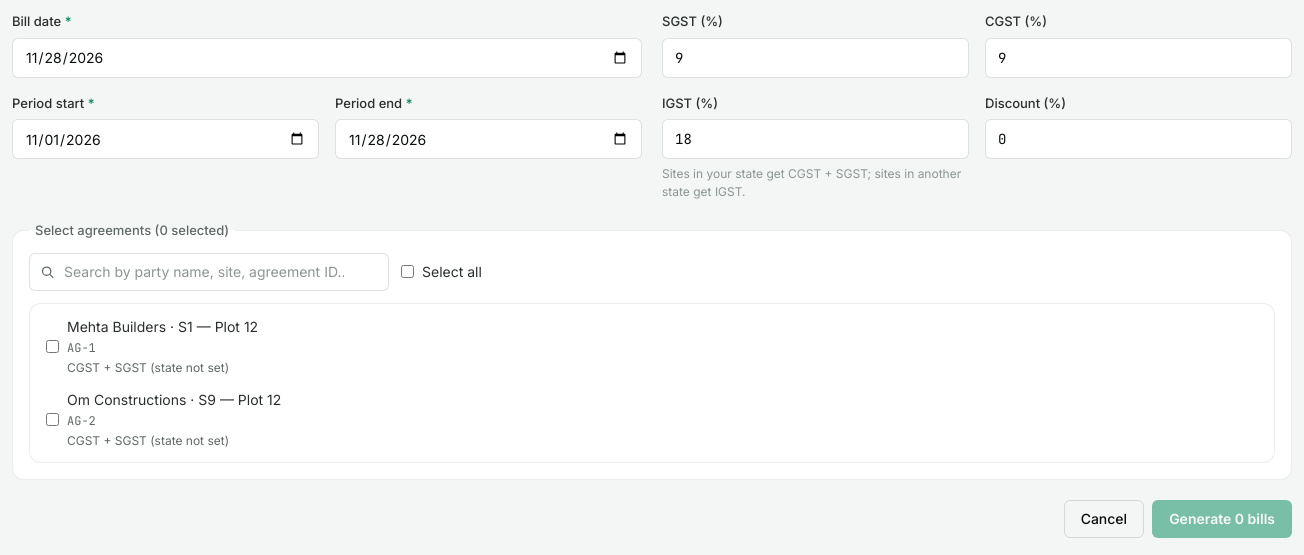
Test: BulkBillForm › refuses an end date before the start
The image size is (1304, 555).
Type "2026-06-10" into the date field labelled "Period start *" at (166, 139), box [12, 119, 319, 159]
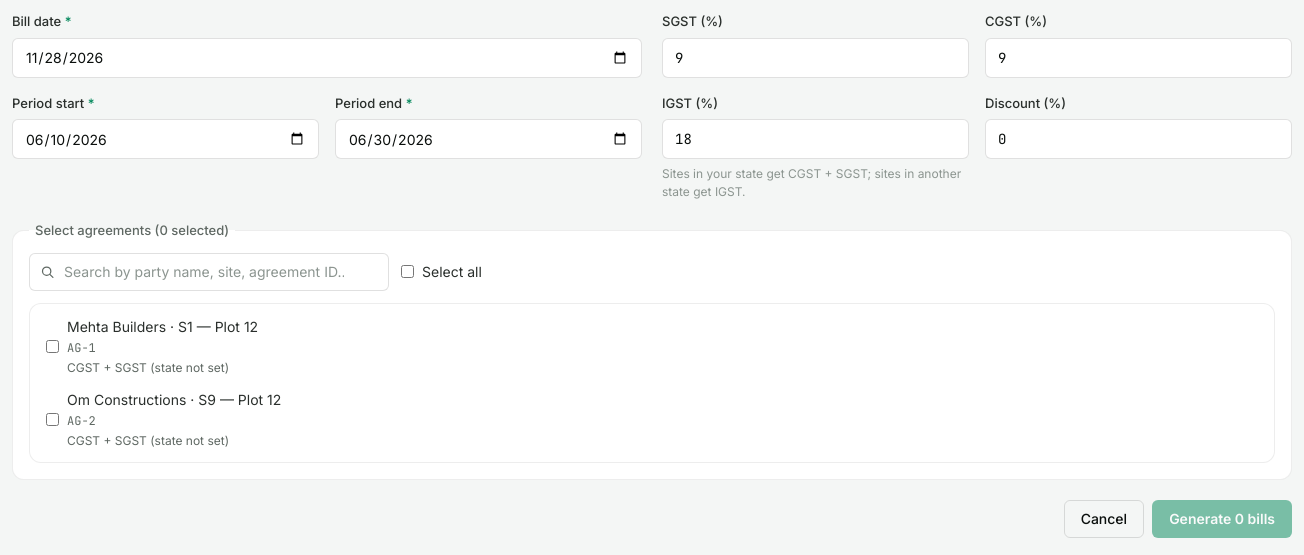
Type "2026-06-01" into the date field labelled "Period end *" at (488, 139), box [335, 119, 642, 159]
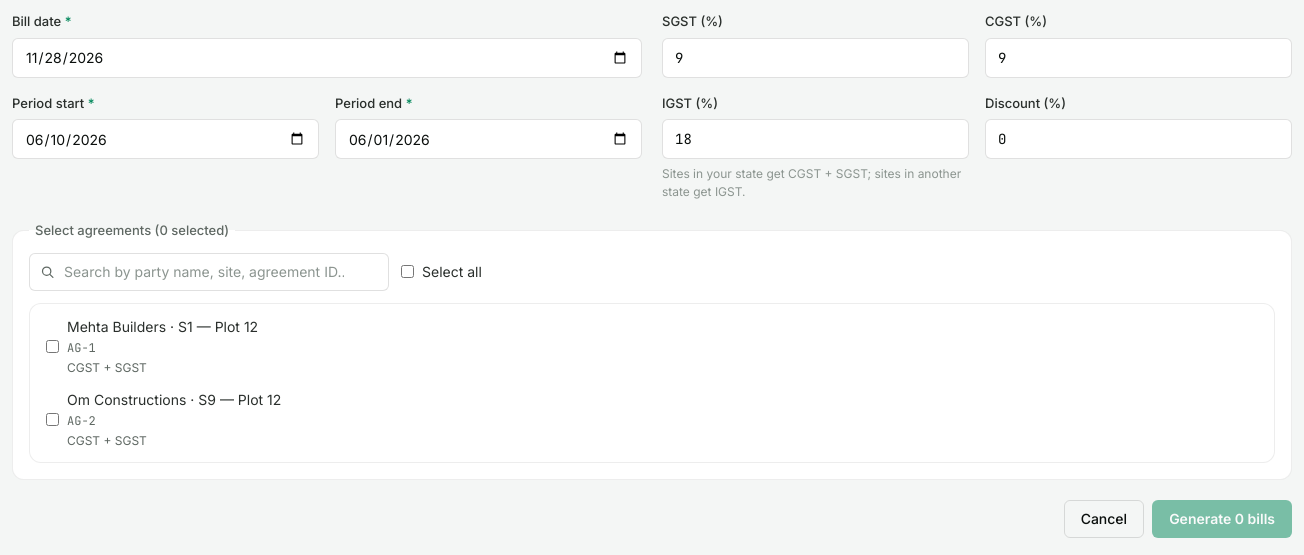
Click the checkbox labelled "Mehta Builders · S1 — Plot 12 AG-1 CGST + SGST" at (52, 346), box [46, 340, 59, 352]
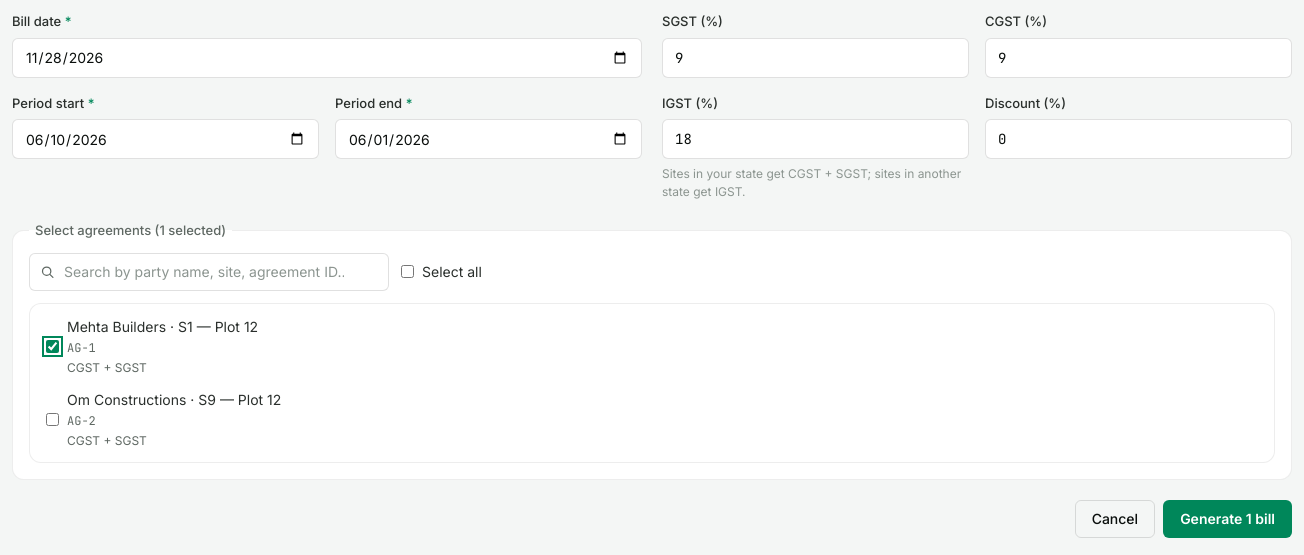
Click the button "Generate 1 bill" at (1228, 518), box [1163, 500, 1292, 538]
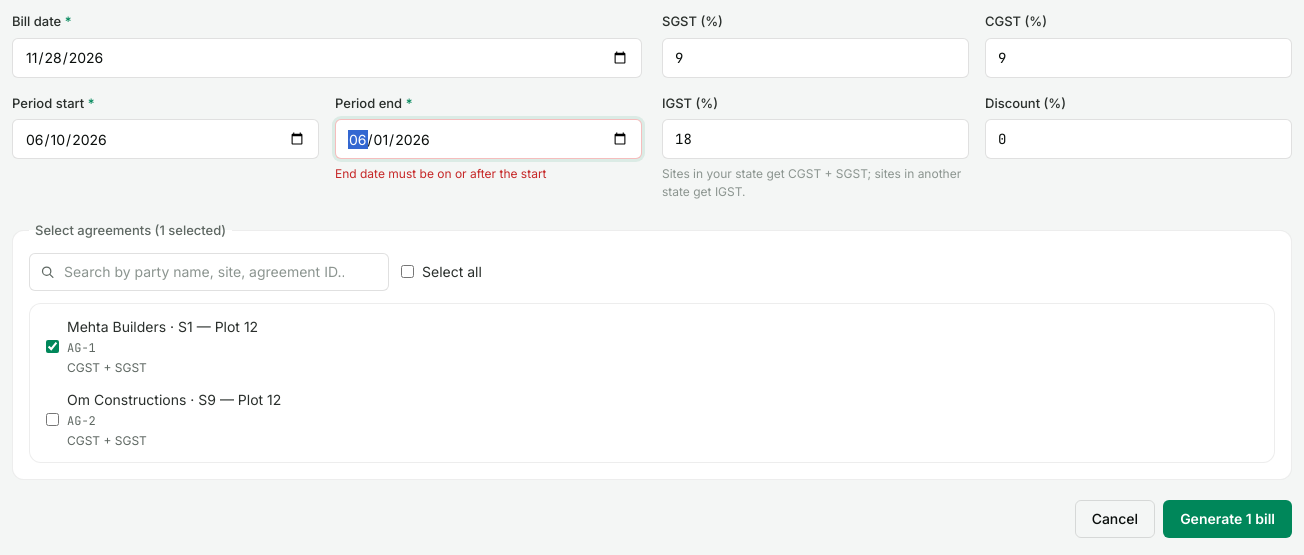
Check: the text "End date must be on or after the start" is shown, box [335, 166, 546, 181]
